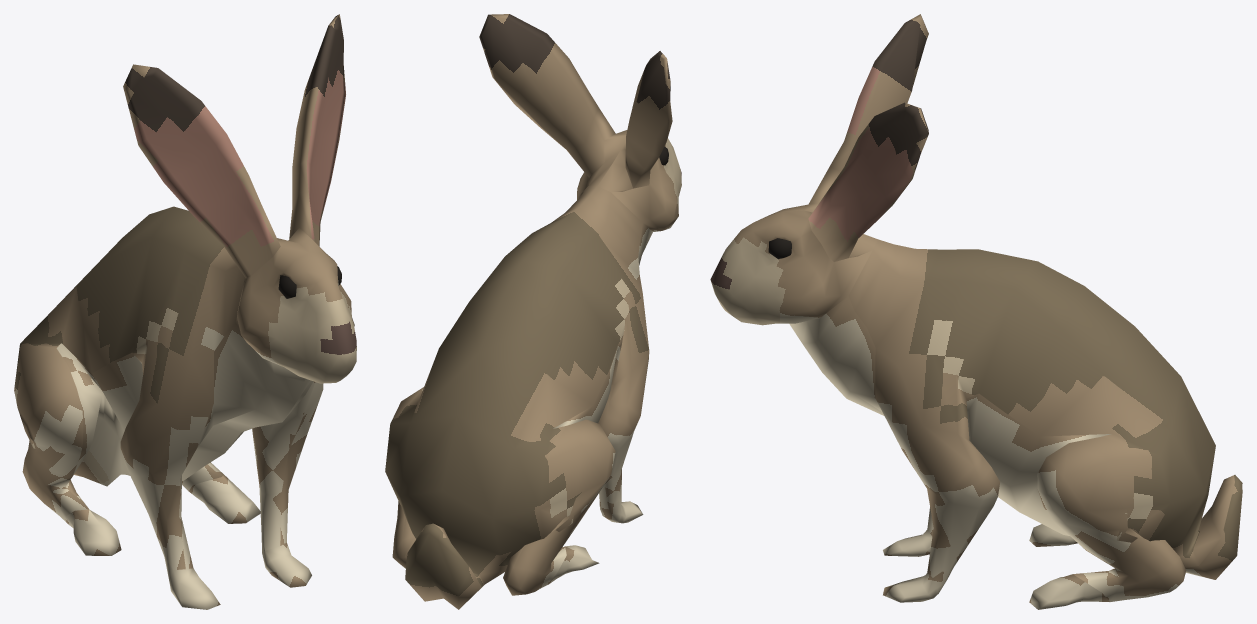
The model's file is hare-field.glb.
3 renders of one model, left to right at view 1: azimuth 30°, elevation 25°; view 2: azimuth 150°, elevation 25°; view 3: azimuth 270°, elevation 25°, orthographic. The views are drawn at different scales.
Parts seen in each view (by area): view 1: hare-field runtime mesh; view 2: hare-field runtime mesh; view 3: hare-field runtime mesh.
Boxes of the visible parts, x1,y1,x2,y2 form: hare-field runtime mesh: [14, 14, 356, 609]; hare-field runtime mesh: [385, 14, 681, 609]; hare-field runtime mesh: [710, 14, 1242, 609].
Size of the model in its own units: 0.2078 by 0.45 by 0.4227.
Materials: 2 (1 with a texture image).
